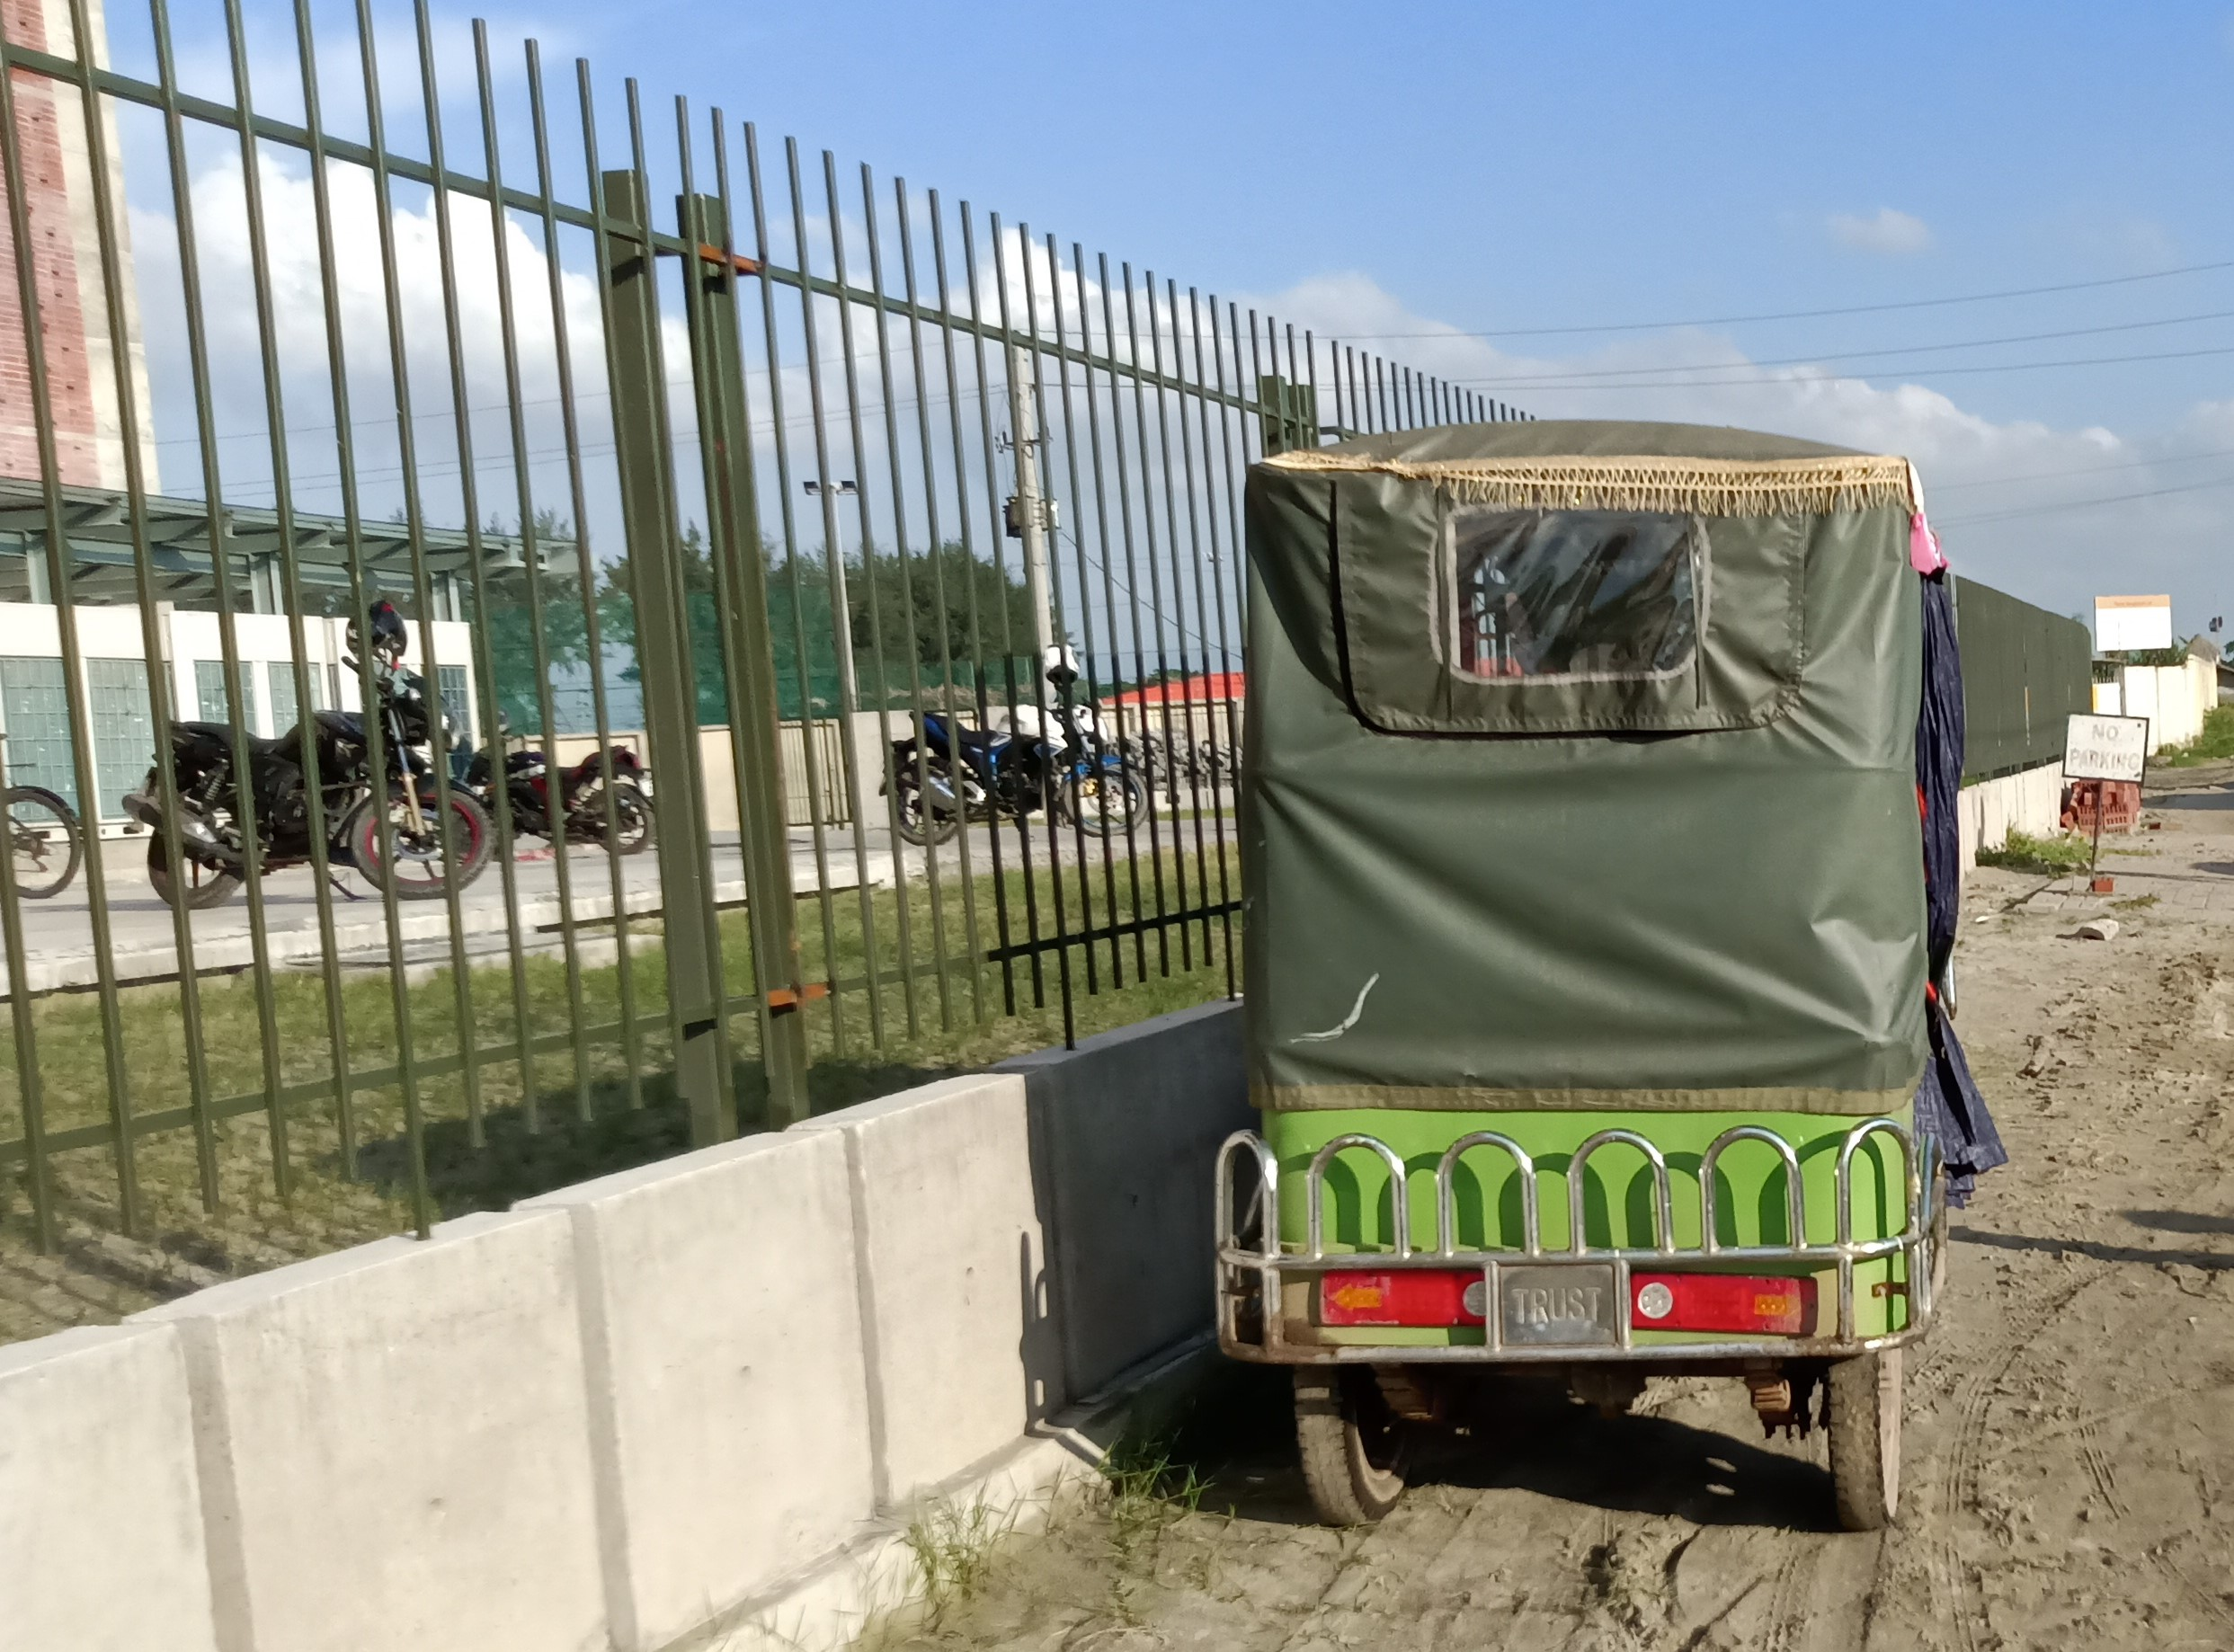bike: (122, 666, 496, 913), (884, 705, 1156, 847), (472, 734, 665, 852)
easybike: (1212, 422, 1958, 1525)
